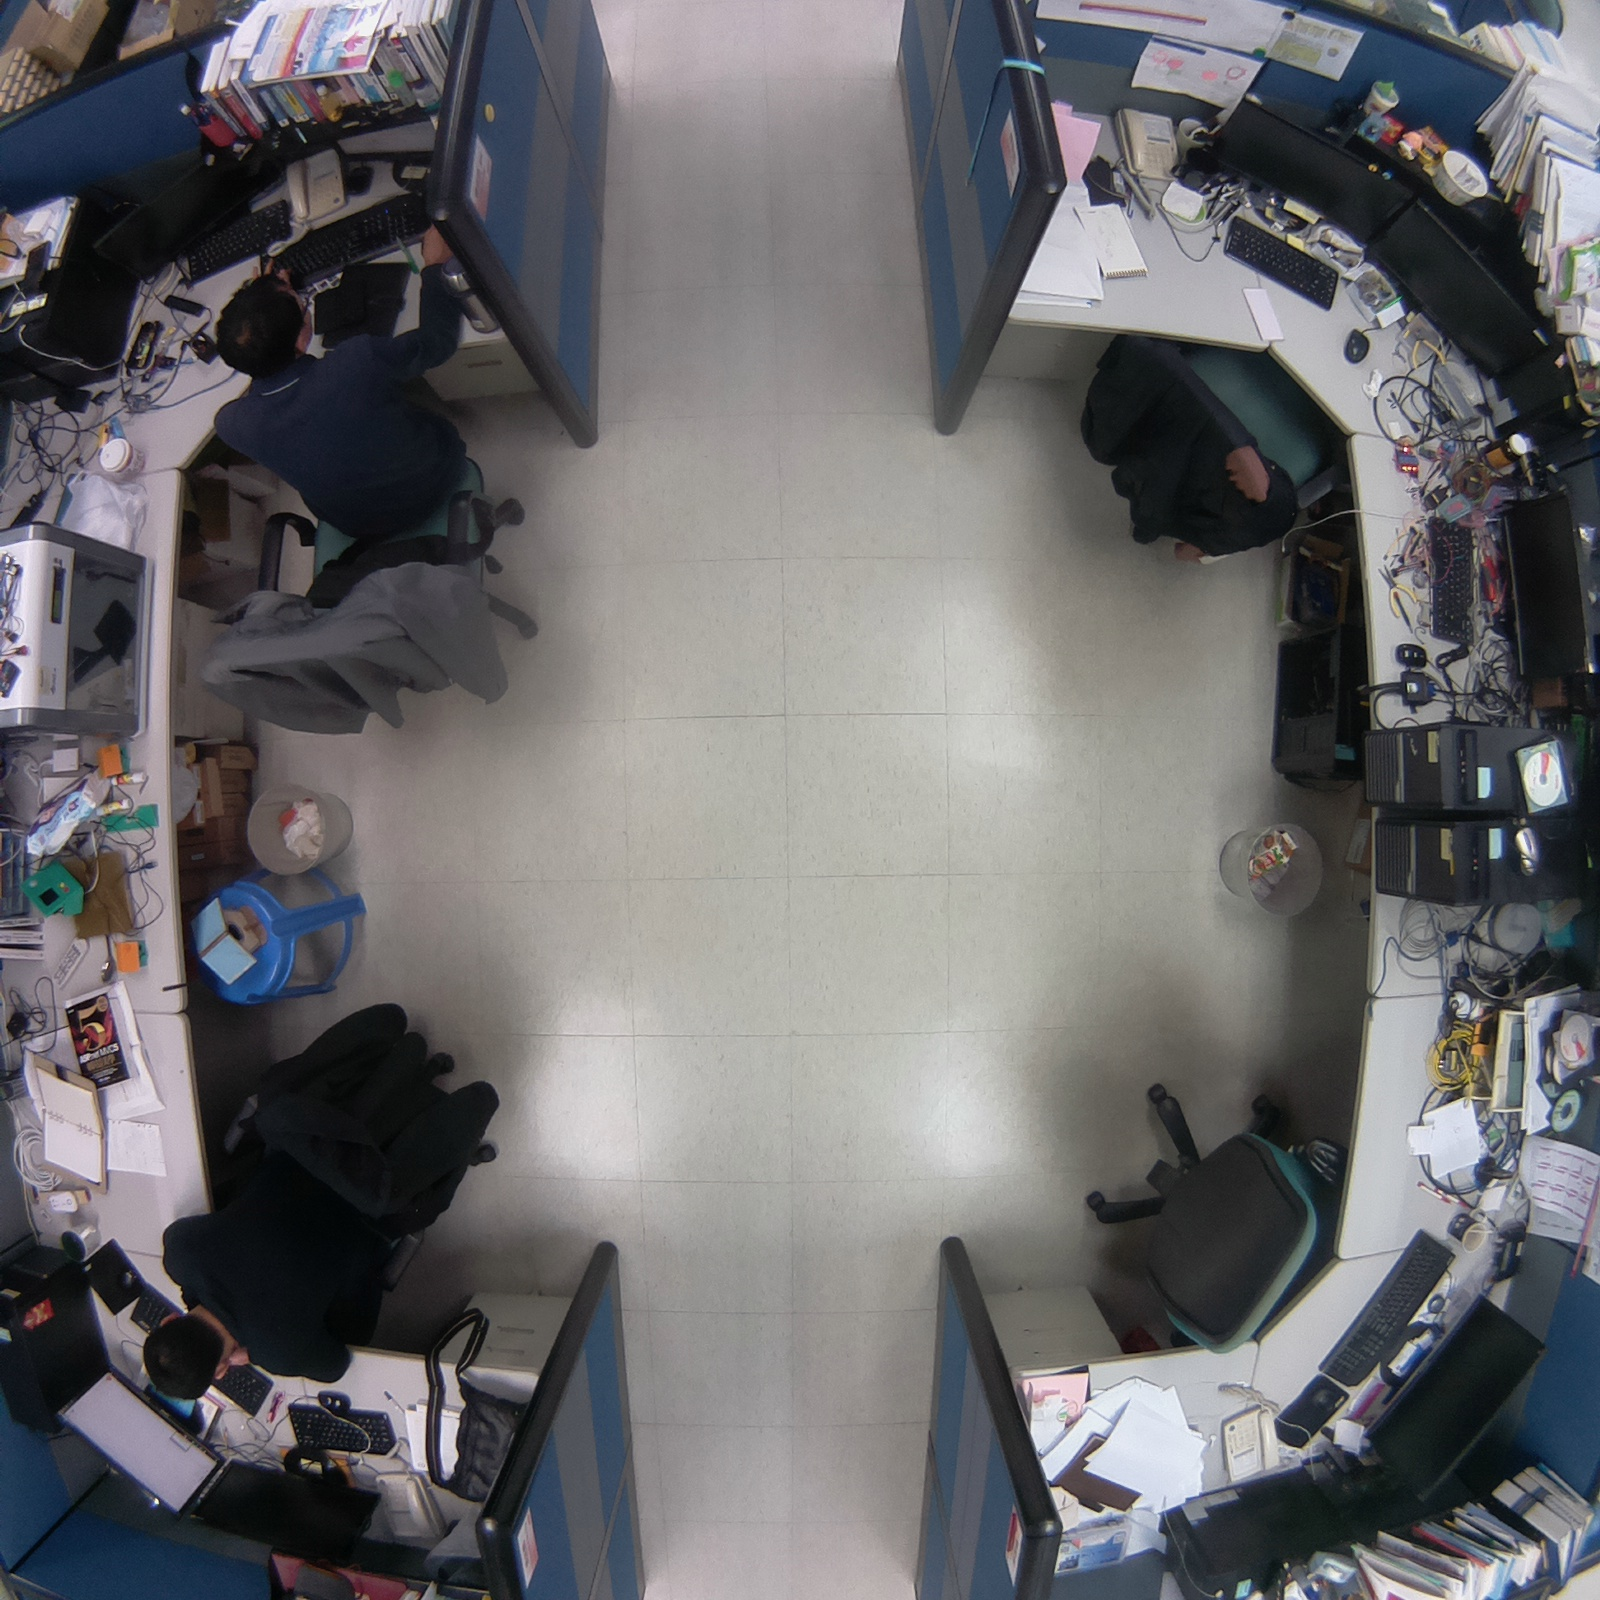chair: (1068, 1068, 1365, 1365), (1068, 306, 1368, 570)
head: (206, 274, 323, 385), (136, 1297, 244, 1404)
sitting: (183, 209, 550, 760), (124, 983, 504, 1422)
